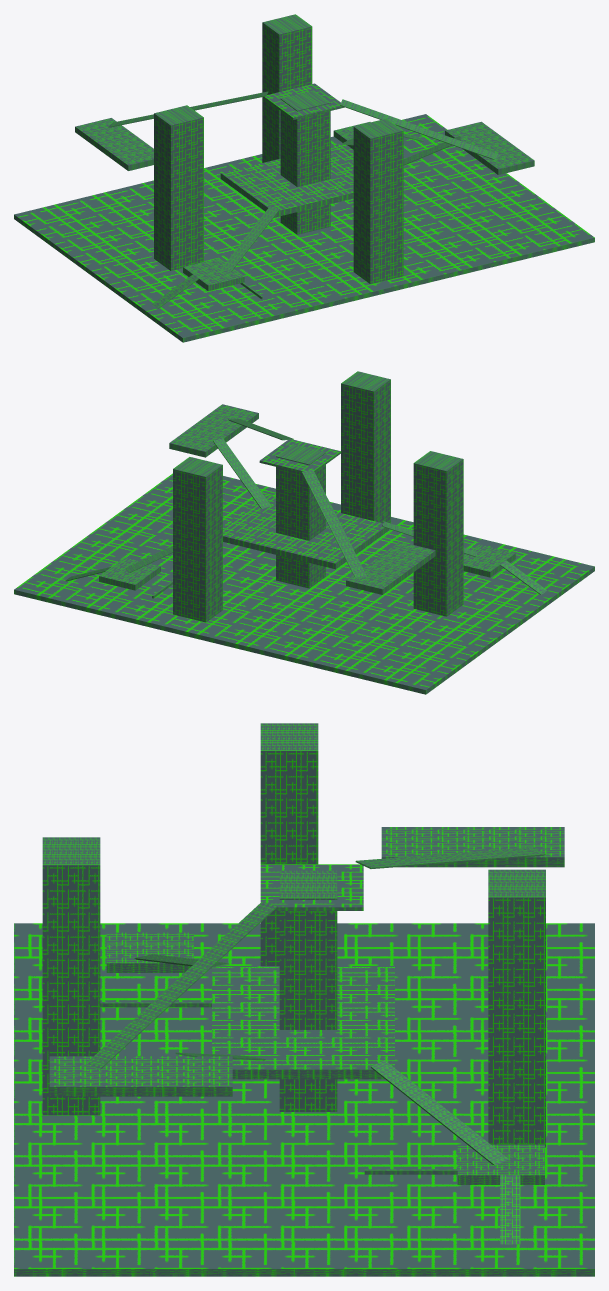
File: playground.fbx
3 renders of one model, top to bottom at view 1: azimuth 30°, elevation 25°; view 2: azimuth 150°, elevation 25°; view 3: azimuth 270°, elevation 25°, orthographic. The views are drawn at different scales.
Visible parts, largest first — view 1: Box019; view 2: Box019; view 3: Box019.
Boxes of the visible parts, x1=… form: Box019: x1=14, y1=14, x2=594, y2=342; Box019: x1=14, y1=371, x2=594, y2=694; Box019: x1=14, y1=723, x2=594, y2=1276.
Size of the model in its own units: 3.63 by 1.26 by 2.58.
8 materials, 8 textured.
